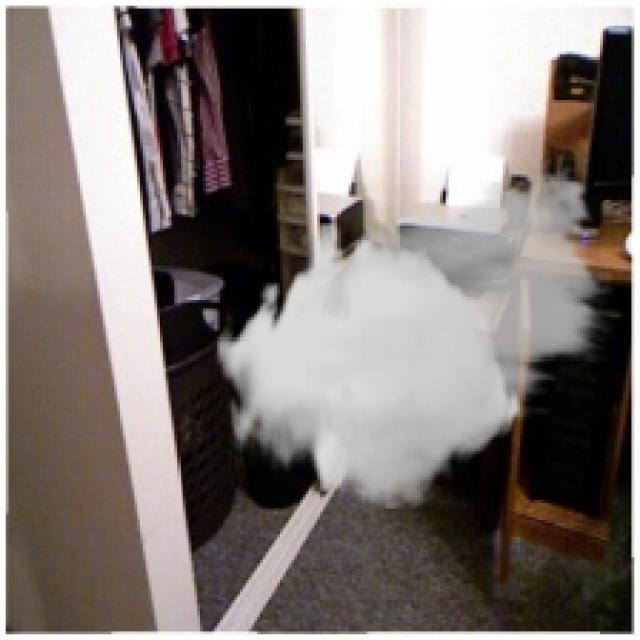smoke: (215, 157, 614, 509)
